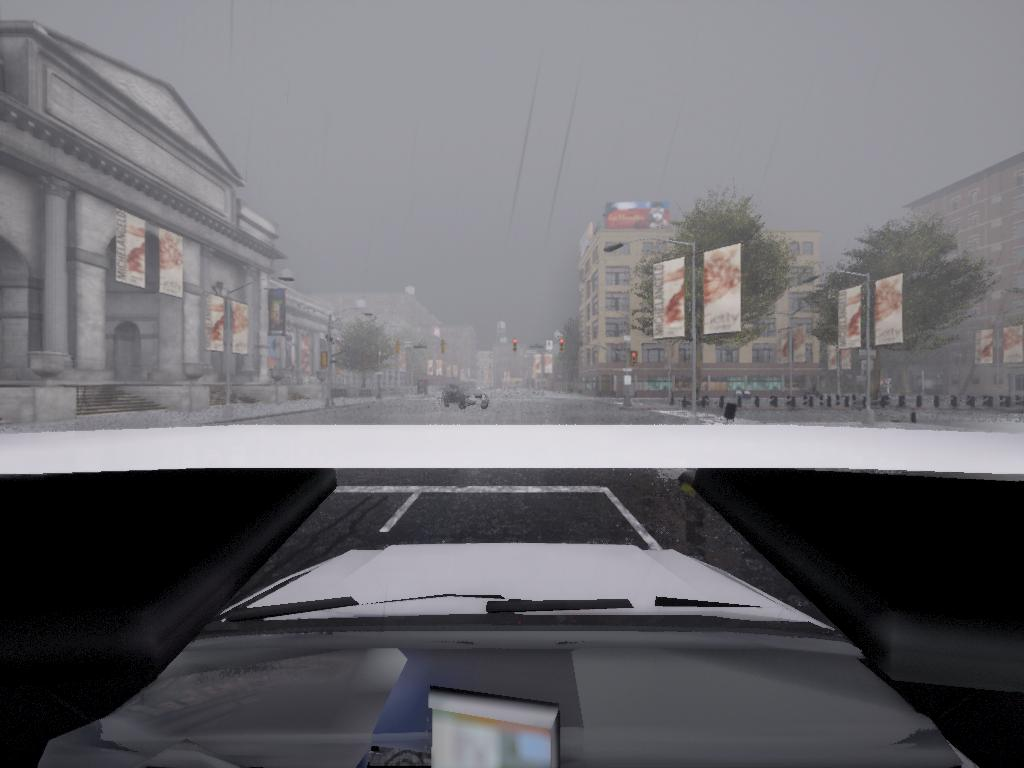traffic_light: (321, 353, 330, 370), (511, 341, 519, 355), (632, 352, 638, 368), (560, 340, 565, 355), (395, 341, 400, 355), (442, 340, 446, 357)
